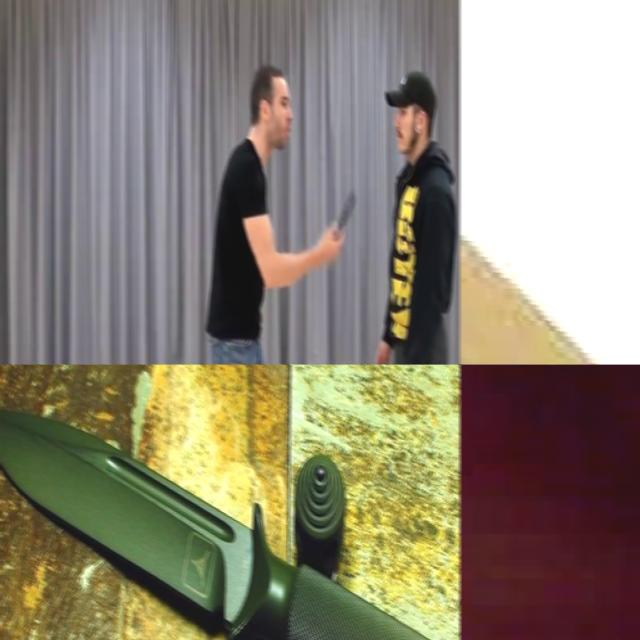Knife_Handle: (485, 473, 640, 640), (324, 188, 357, 264)
